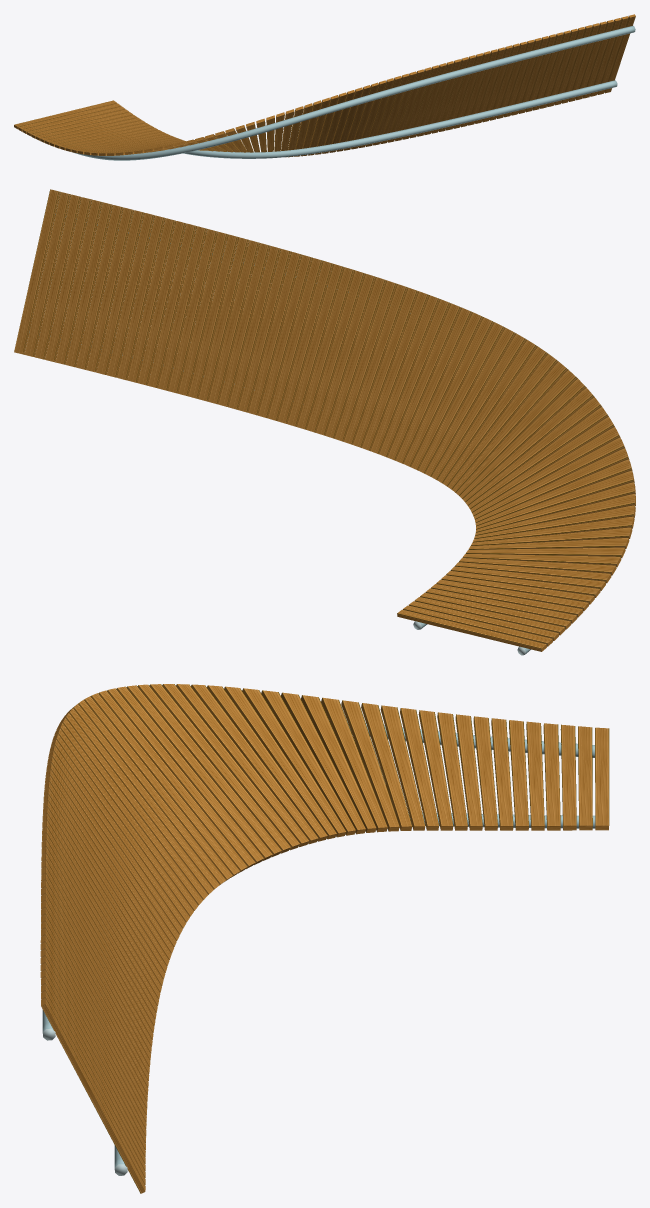
Rendered from WeightSurfChunk90_A.fbx.
3 renders of one model, top to bottom at view 1: azimuth 30°, elevation 25°; view 2: azimuth 150°, elevation 25°; view 3: azimuth 270°, elevation 25°, orthographic. The views are drawn at different scales.
Visible parts, largest first — view 1: WeightSurfChunk90_A, WeightSurfChunk90_A_RRAIL, WeightSurfChunk90_A_LRAIL; view 2: WeightSurfChunk90_A; view 3: WeightSurfChunk90_A, WeightSurfChunk90_A_RRAIL.
Part boxes in pixels (<box>): WeightSurfChunk90_A: <box>14,14,635,157</box>; WeightSurfChunk90_A_RRAIL: <box>71,25,635,160</box>; WeightSurfChunk90_A_LRAIL: <box>183,80,617,158</box>; WeightSurfChunk90_A: <box>14,189,635,651</box>; WeightSurfChunk90_A: <box>40,684,609,1193</box>; WeightSurfChunk90_A_RRAIL: <box>42,721,594,1040</box>.
Size of what is drawn, in the model's own units: 160 by 82.23 by 33.45.
